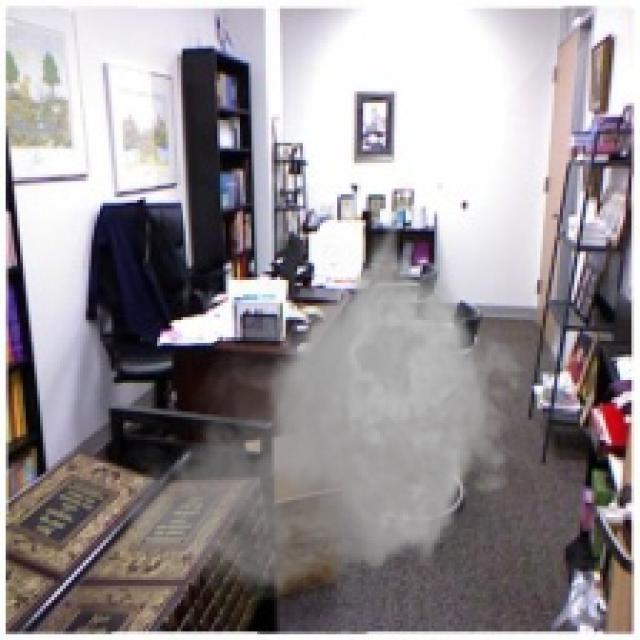Smoke: (120, 197, 537, 612)
